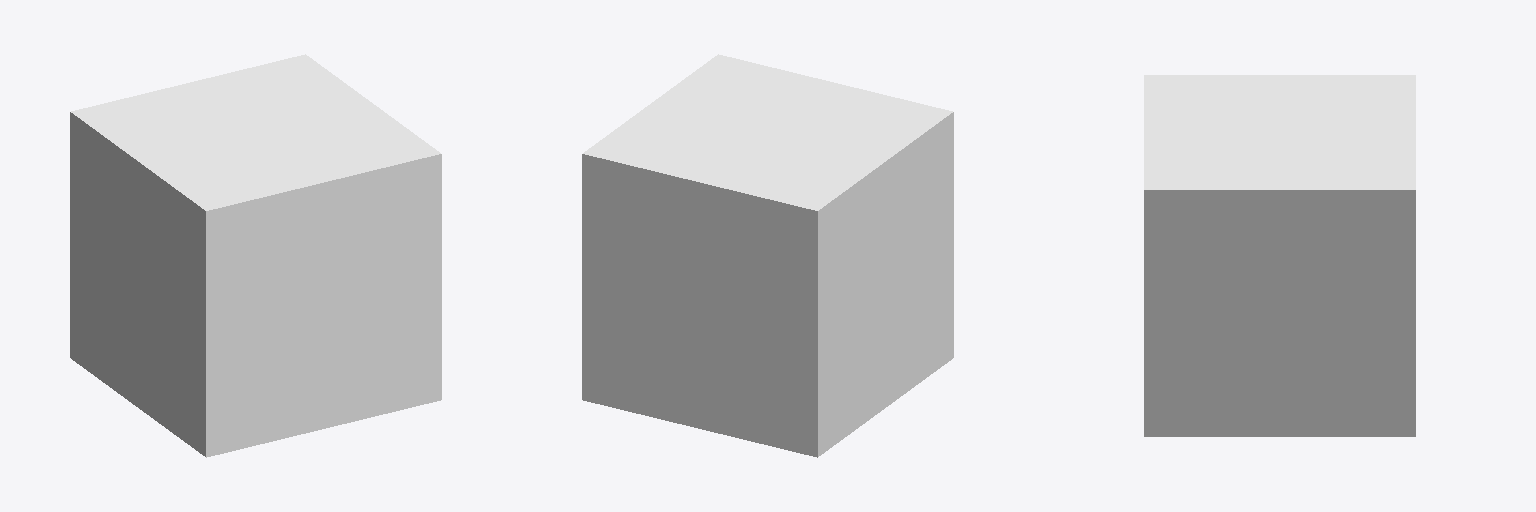
Rendered from box_one_light_wall.obj.
3 views of the same model, side by side, from view 1: azimuth 30°, elevation 25°; view 2: azimuth 150°, elevation 25°; view 3: azimuth 270°, elevation 25° (orthographic).
Visible parts, largest first — view 1: Cube; view 2: Cube; view 3: Cube.
Part boxes in pixels (x1,y1,x2,y2): Cube: (70,54,441,457); Cube: (582,54,953,457); Cube: (1144,75,1415,436).
Bounding box in the file's own units: 2 × 2 × 2.